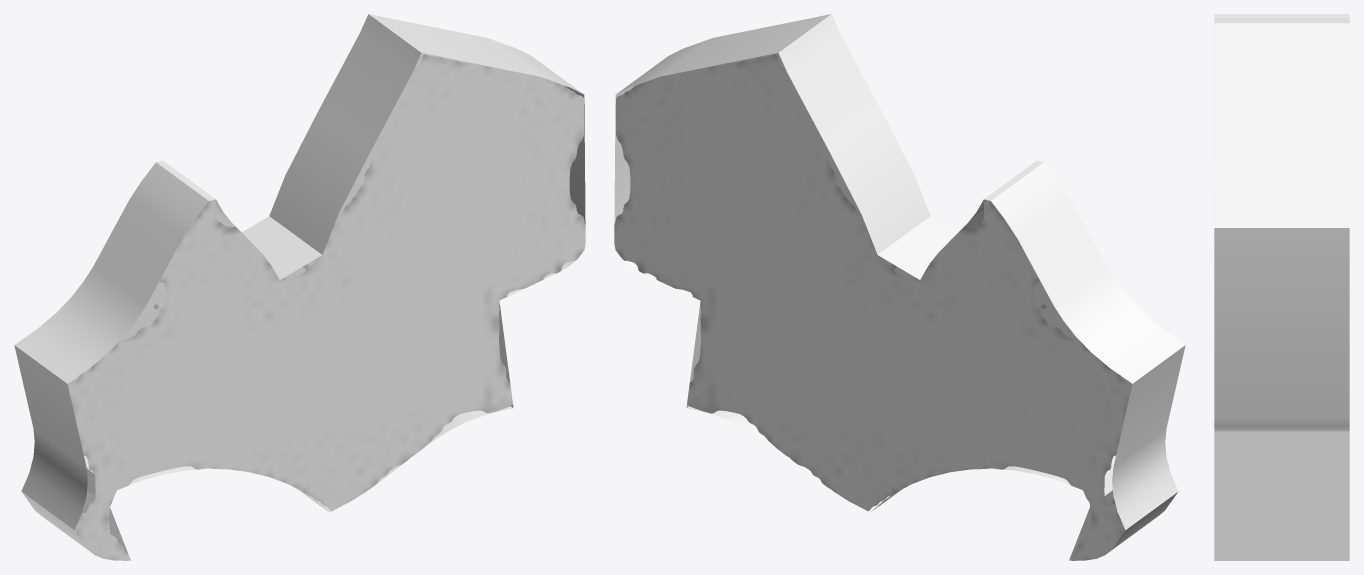
Rendered from Molise.obj.
3 views of the same model, side by side, from view 1: azimuth 30°, elevation 25°; view 2: azimuth 150°, elevation 25°; view 3: azimuth 270°, elevation 25° (orthographic). The views are drawn at different scales.
Size of the model in its own units: 73.17 by 58.99 by 13.
3 materials, 3 textured.
